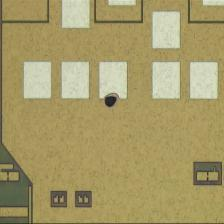PARTICLE: (103, 93, 119, 109)
